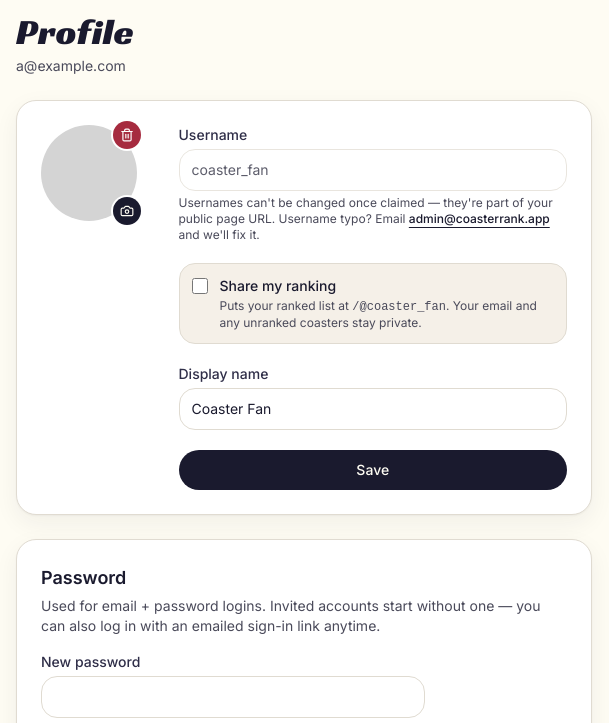
Test: ProfilePage › publishes immediately when the share toggle is checked — no Save required
The width and height of the screenshot is (609, 723).
Expected: the field showing "coaster_fan" is shown, [178,149,567,191]
Expected: the button "Copy" is not shown
Click the checkbox labelled "Share my ranking" at (200, 286), box [192,278,208,294]
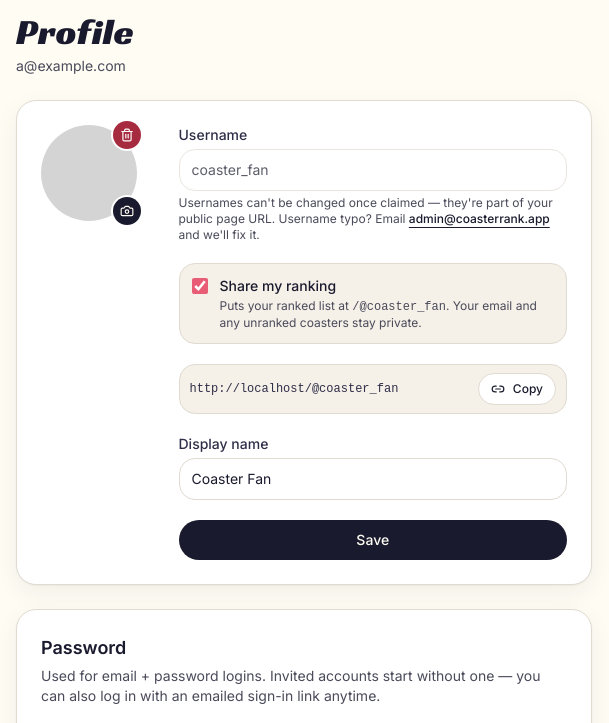
Expected: the button "Copy" is shown, [478,373,556,405]
